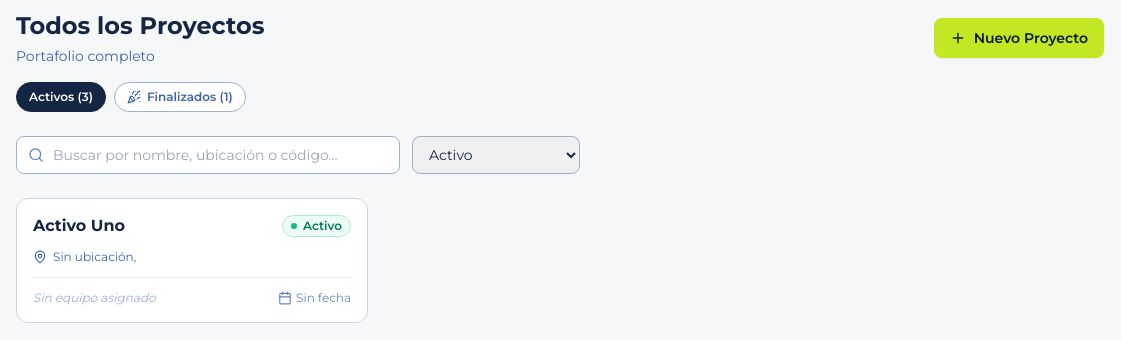
Test: la pestaña de finalizados › volver a activos conserva el filtro
What coordinates should you click on to do the following:
click the button "Finalizados (1)"
I would click on:
 (180, 97)
Its box is [114,82,246,112].
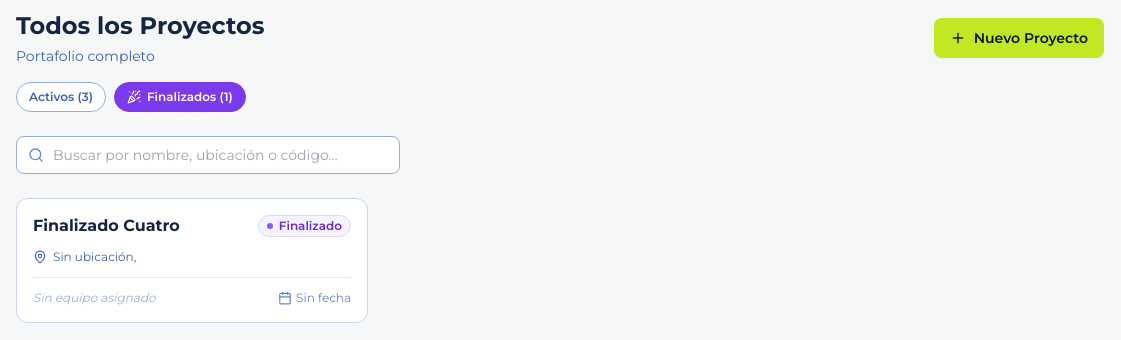
What coordinates should you click on to do the following:
click the button "Activos (3)"
I would click on:
 (61, 97)
Its box is [16,82,106,112].
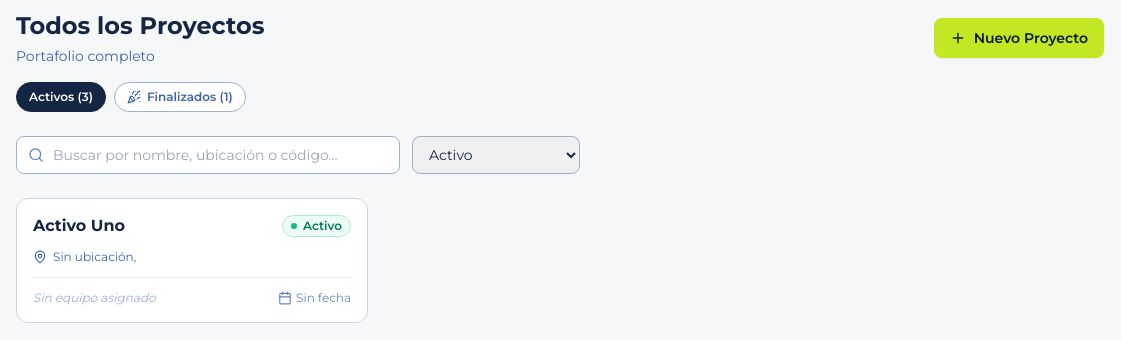
Check: the heading "Activo Uno" is shown, box [33,215,125,237]
